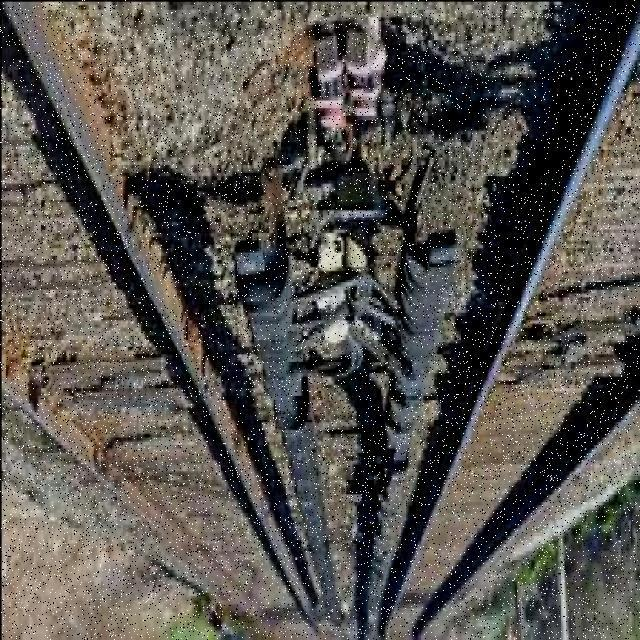rail: (0, 0, 336, 640), (376, 6, 640, 640)
